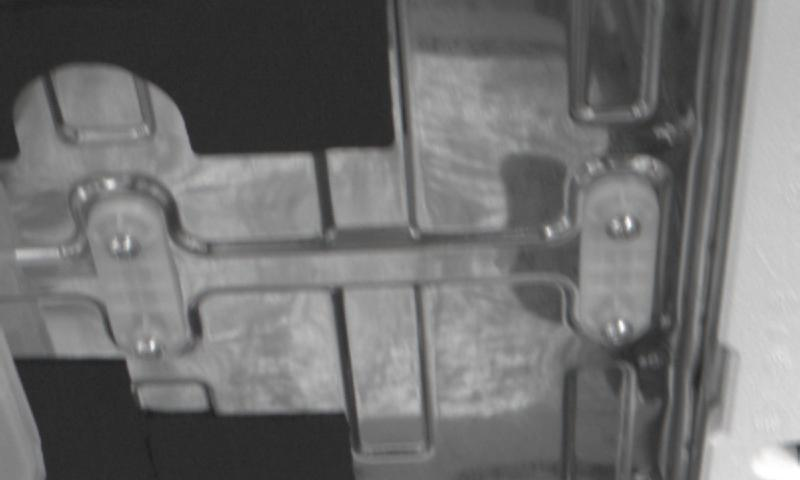vida-ok: (97, 225, 143, 269), (600, 207, 647, 250), (595, 314, 641, 353), (122, 329, 167, 368)
